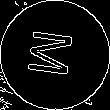M_E: (27, 28, 83, 82)
